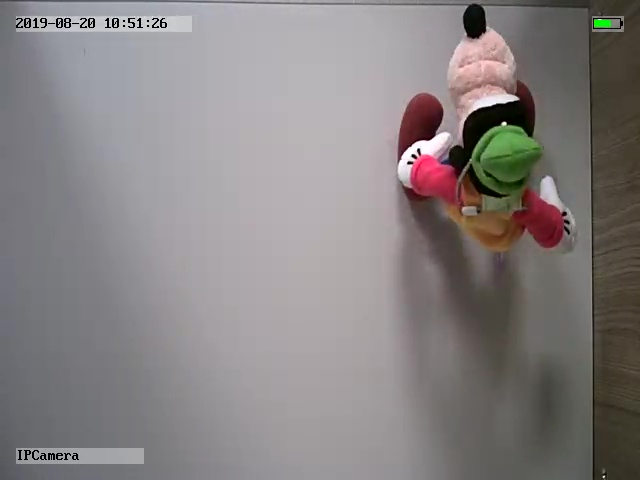goofy: (395, 8, 577, 252)
